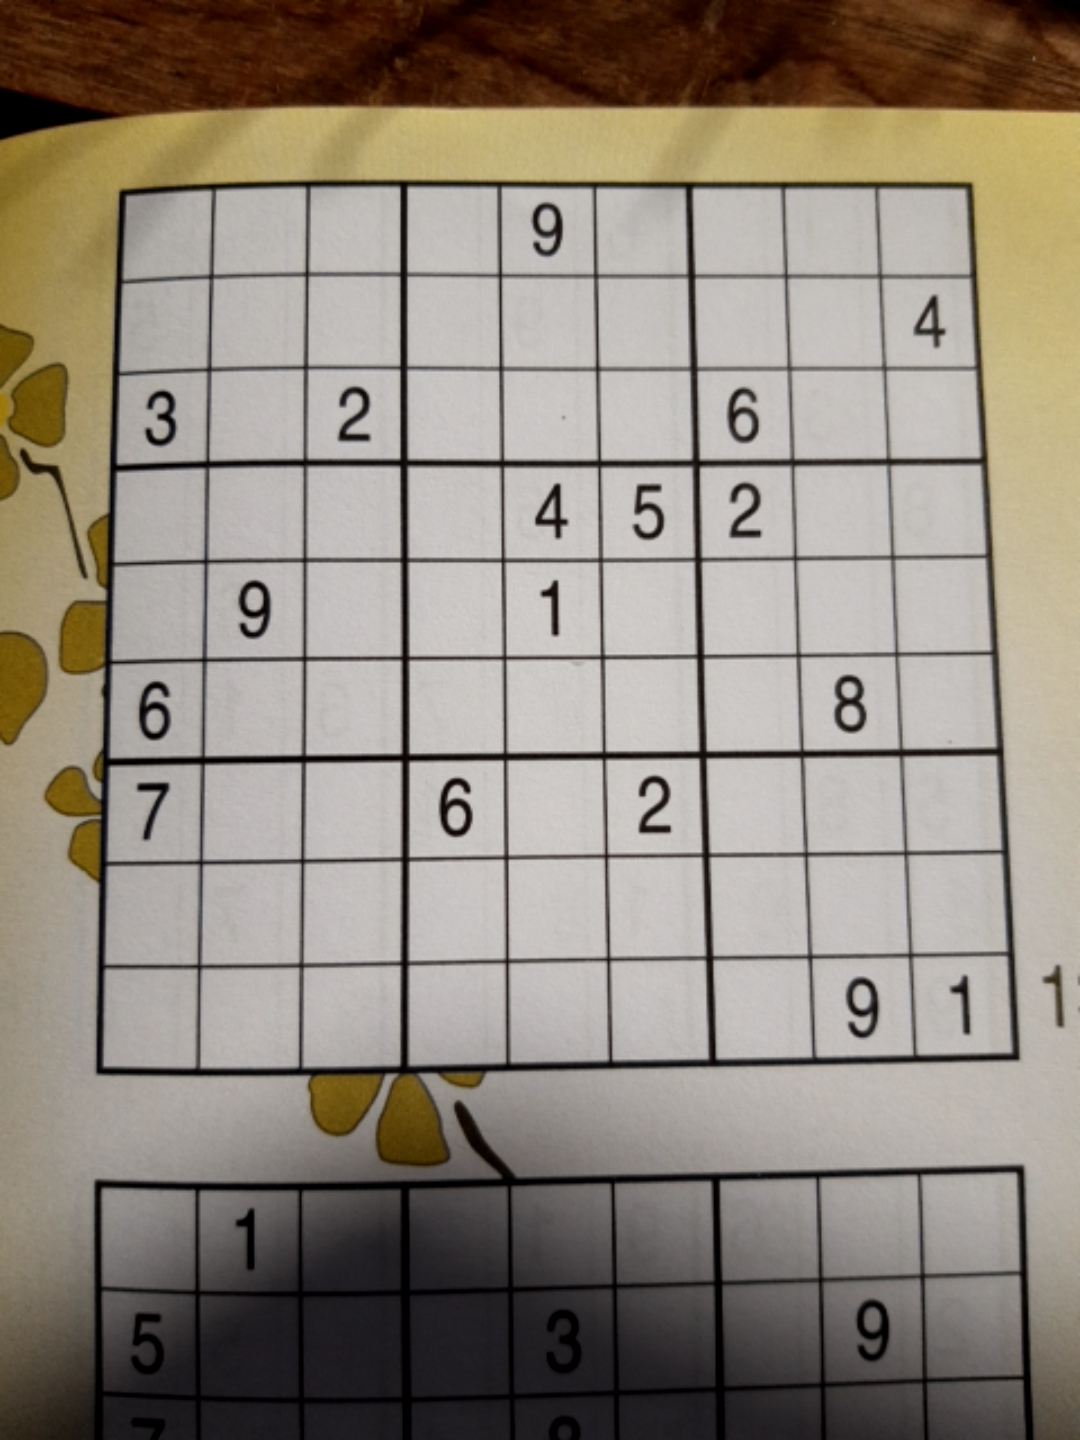sudoku: (105, 173, 1016, 1072)
